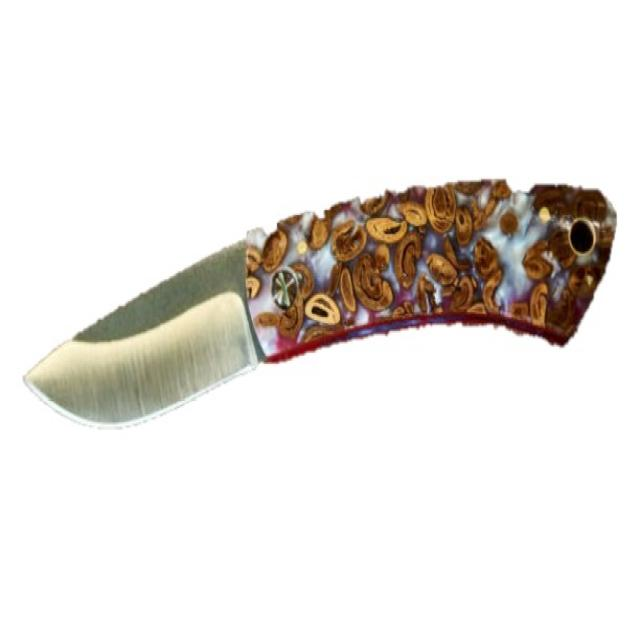knife: (20, 129, 621, 525)
